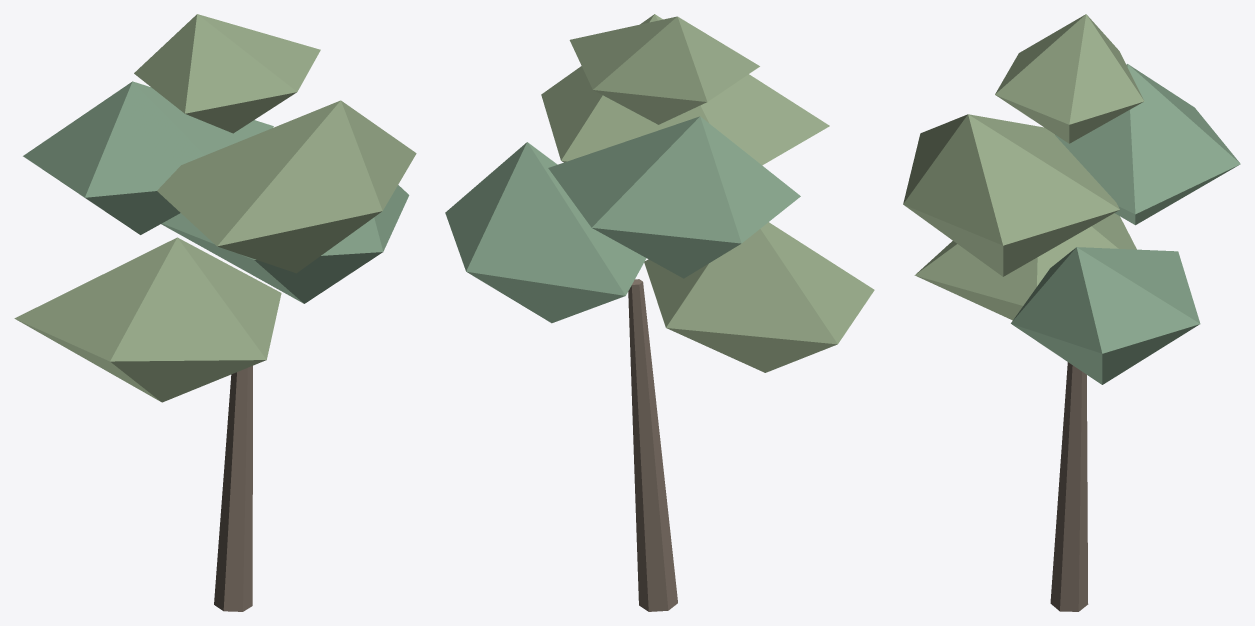
3 views of the same model, side by side, from view 1: azimuth 30°, elevation 25°; view 2: azimuth 150°, elevation 25°; view 3: azimuth 270°, elevation 25° (orthographic). The views are drawn at different scales.
Bounding box in the file's own units: 13.31 × 19.29 × 10.22.
